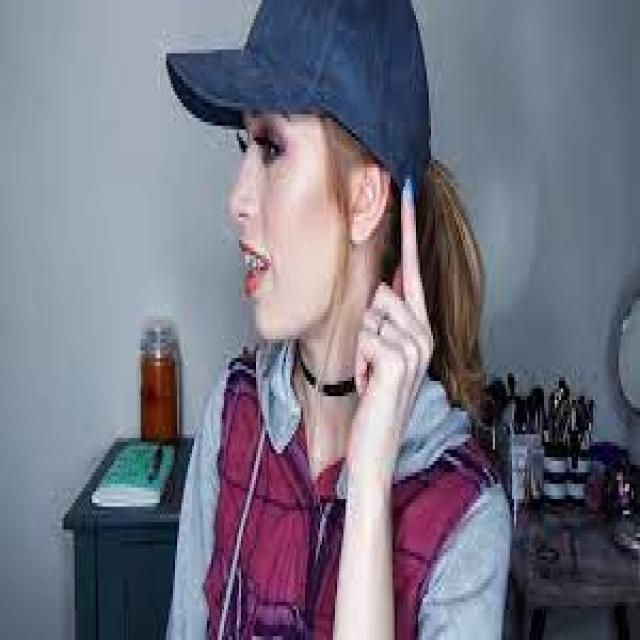cap: (158, 0, 439, 282)
